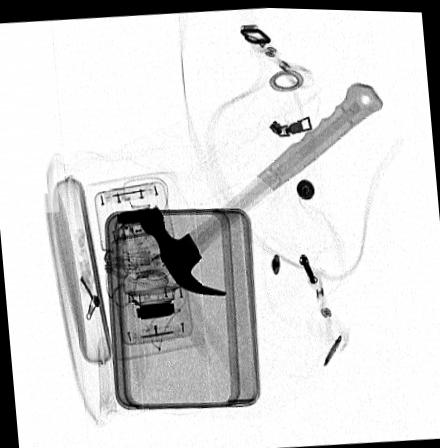Hammer: (135, 80, 384, 295)
